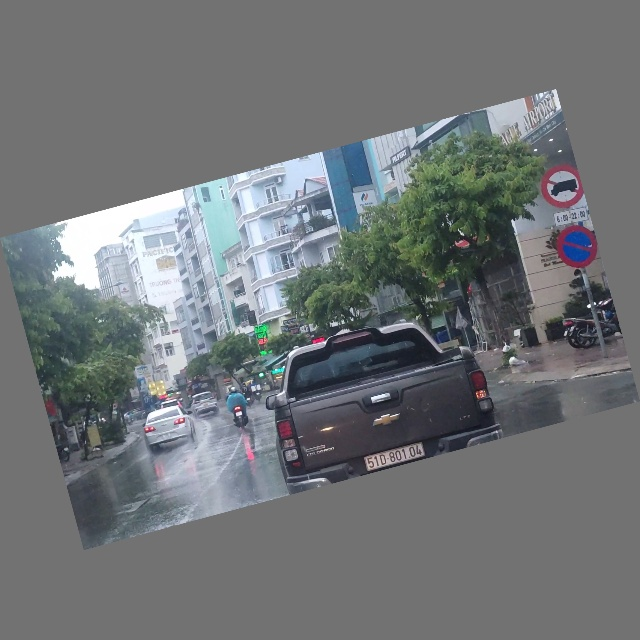P.106a*Xe tai: (536, 161, 587, 214)
P.131a: (551, 221, 602, 273)
